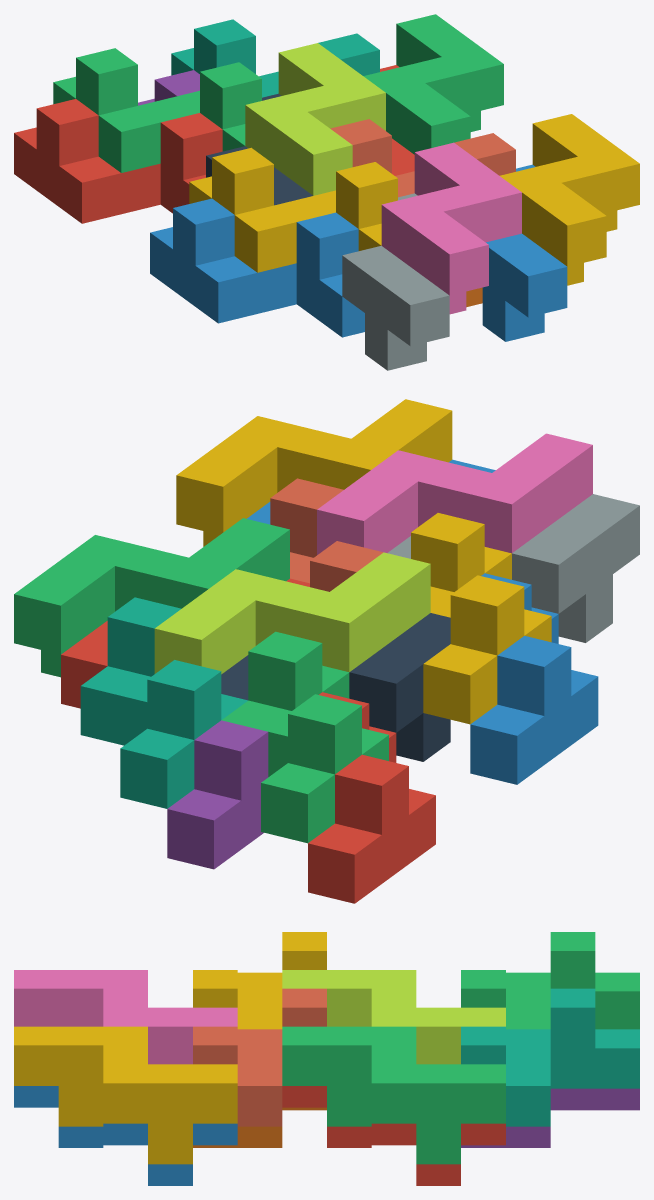
The model's file is tiling.obj.
3 views of the same model, one above another, from view 1: azimuth 30°, elevation 25°; view 2: azimuth 150°, elevation 25°; view 3: azimuth 270°, elevation 25° (orthographic). The views are drawn at different scales.
Parts seen in each view (by area): view 1: copy_1_domain_2, copy_1_domain_1, copy_2_domain_4, copy_2_domain_8, copy_2_domain_3, copy_2_domain_7, copy_1_domain_3, copy_1_domain_4, copy_2_domain_2, copy_2_domain_6, copy_1_domain_7, copy_1_domain_8 (+3 smaller); view 2: copy_2_domain_3, copy_2_domain_4, copy_1_domain_7, copy_1_domain_3, copy_2_domain_7, copy_2_domain_8, copy_1_domain_4, copy_1_domain_2, copy_1_domain_1, copy_2_domain_2, copy_1_domain_5, copy_2_domain_1 (+2 smaller); view 3: copy_2_domain_8, copy_2_domain_7, copy_1_domain_7, copy_2_domain_4, copy_1_domain_3, copy_2_domain_3, copy_1_domain_8, copy_1_domain_4, copy_2_domain_6, copy_2_domain_5, copy_1_domain_5, copy_1_domain_6.
Boxes of the visible parts, bbox=[...] form: copy_1_domain_2: bbox=[150, 198, 364, 337]; copy_1_domain_1: bbox=[14, 99, 222, 223]; copy_2_domain_4: bbox=[381, 142, 521, 314]; copy_2_domain_8: bbox=[499, 114, 639, 285]; copy_2_domain_3: bbox=[245, 43, 385, 195]; copy_2_domain_7: bbox=[363, 14, 503, 154]; copy_1_domain_3: bbox=[53, 48, 261, 172]; copy_1_domain_4: bbox=[189, 147, 397, 272]; copy_2_domain_2: bbox=[342, 193, 449, 370]; copy_2_domain_6: bbox=[482, 164, 567, 341]; copy_1_domain_7: bbox=[171, 19, 379, 97]; copy_1_domain_8: bbox=[330, 119, 515, 197]; copy_2_domain_3: bbox=[154, 552, 430, 674]; copy_2_domain_4: bbox=[317, 433, 592, 554]; copy_1_domain_7: bbox=[80, 597, 247, 808]; copy_1_domain_3: bbox=[222, 631, 388, 843]; copy_2_domain_7: bbox=[14, 518, 289, 677]; copy_2_domain_8: bbox=[176, 399, 452, 546]; copy_1_domain_4: bbox=[411, 513, 551, 724]; copy_1_domain_2: bbox=[470, 573, 598, 784]; copy_1_domain_1: bbox=[308, 692, 435, 903]; copy_2_domain_2: bbox=[387, 494, 639, 642]; copy_1_domain_5: bbox=[167, 720, 268, 869]; copy_2_domain_1: bbox=[221, 613, 450, 761]; copy_2_domain_8: bbox=[14, 1026, 237, 1164]; copy_2_domain_7: bbox=[282, 1026, 505, 1164]; copy_1_domain_7: bbox=[461, 988, 639, 1126]; copy_2_domain_4: bbox=[14, 970, 237, 1064]; copy_1_domain_3: bbox=[461, 932, 639, 1029]; copy_2_domain_3: bbox=[282, 970, 505, 1064]; copy_1_domain_8: bbox=[193, 988, 326, 1126]; copy_1_domain_4: bbox=[193, 932, 326, 1029]; copy_2_domain_6: bbox=[14, 1086, 237, 1185]; copy_2_domain_5: bbox=[282, 1086, 505, 1185]; copy_1_domain_5: bbox=[461, 1088, 639, 1147]; copy_1_domain_6: bbox=[193, 1107, 326, 1147].
Bounding box in the file's own units: 9 × 3 × 14.
